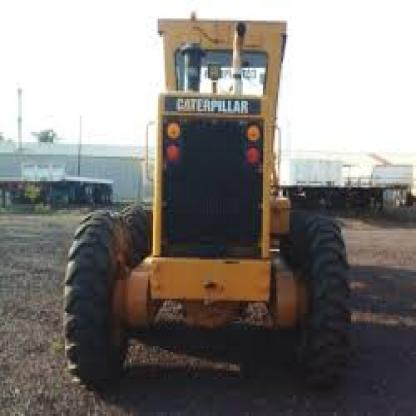bull_dozer/loader/grader: (42, 4, 381, 381)
